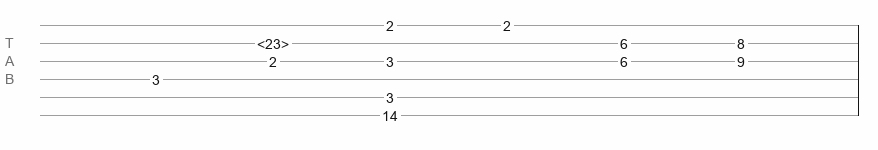14: (382, 108, 398, 118)
2: (269, 54, 277, 64), (386, 18, 394, 28), (503, 18, 511, 28)
3: (152, 72, 160, 82), (386, 90, 394, 100), (386, 54, 394, 64)
6: (620, 36, 628, 46), (620, 54, 628, 64)
8: (737, 36, 745, 46)
9: (737, 54, 745, 64)
harmonic: (257, 36, 289, 46)
